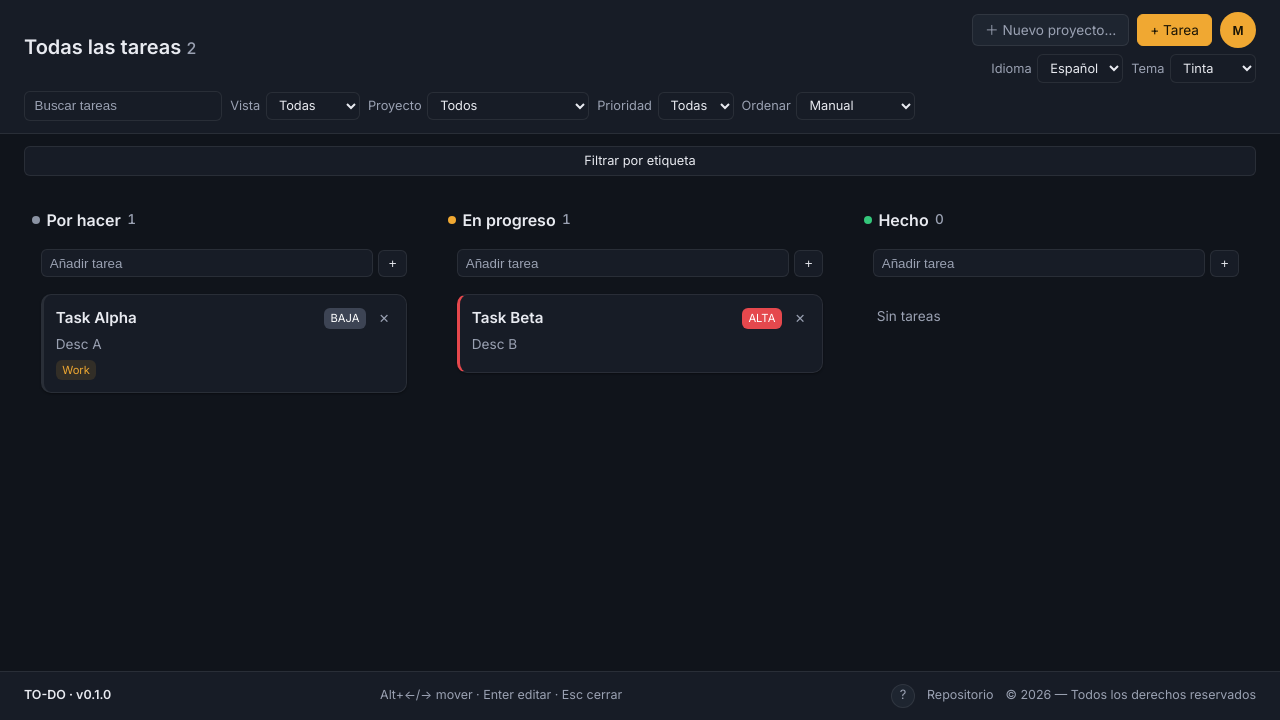
Scenario: TodoListPage Kanban (through the repository seam) › filters visible tasks by tag and clears the filter
This screenshot has width=1280, height=720.
Expected: the text "Task Alpha" is shown, [56,308,137,327]
Expected: the text "Task Beta" is shown, [472,308,543,327]
What coordinates should you click on to do the following:
click the button "Filtrar por etiqueta"
I would click on:
 (640, 161)
Its box is [24,146,1256,176].
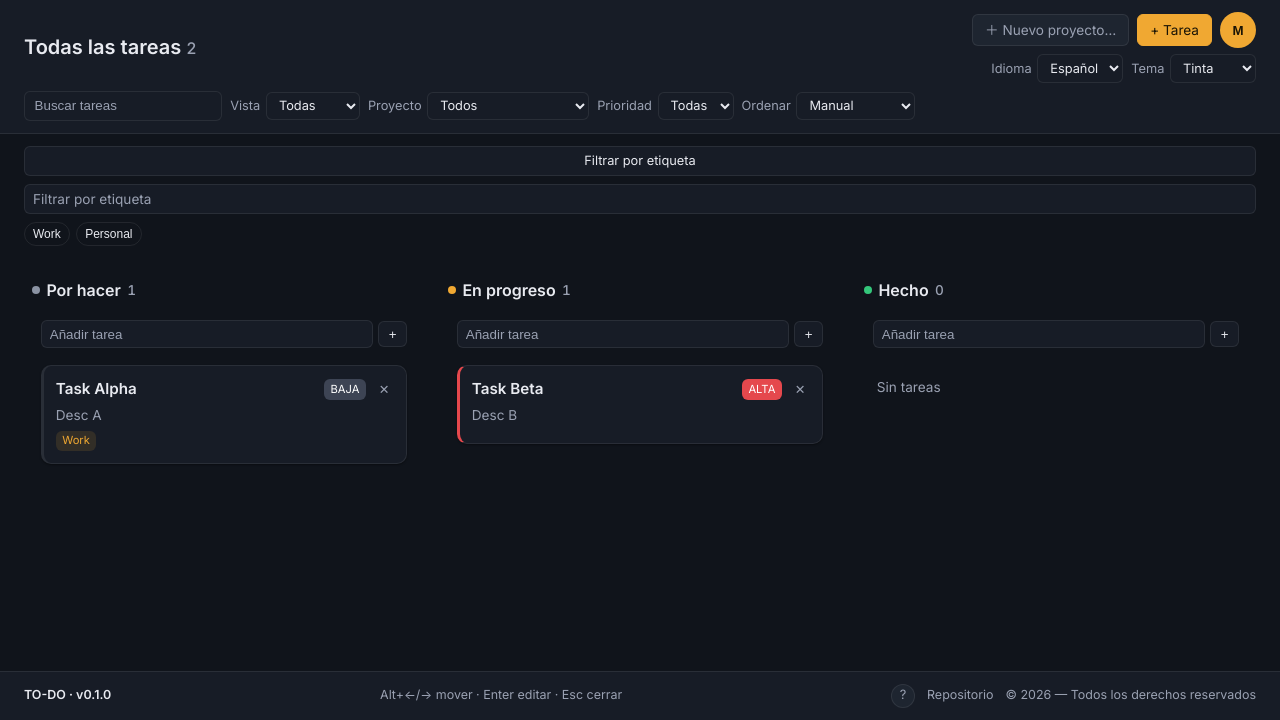
What coordinates should you click on to do the following:
click the option "Work"
I would click on:
 (47, 234)
Its box is [24,222,70,246].
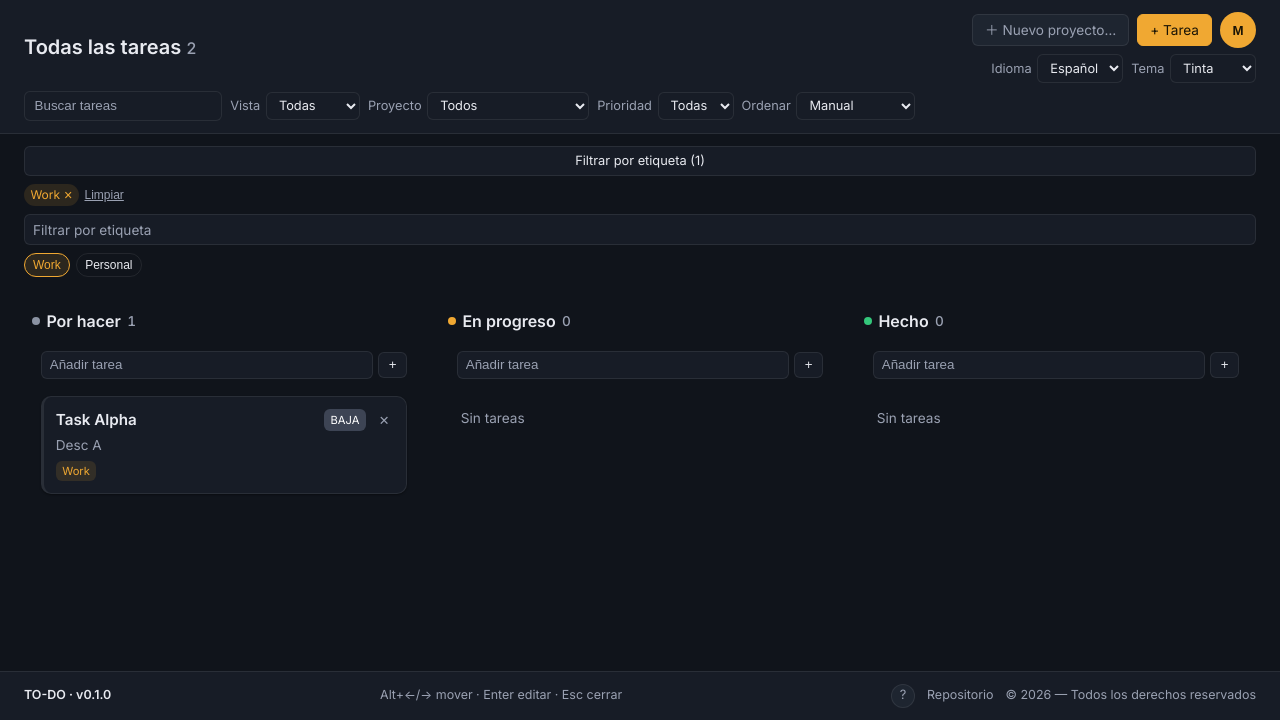
Expected: the text "Task Alpha" is shown, [56,410,137,429]
Expected: the button "Task Beta" is gone
What coordinates should you click on to do the following:
click the button "Limpiar"
I would click on:
 (104, 195)
Its box is [84,188,124,202].
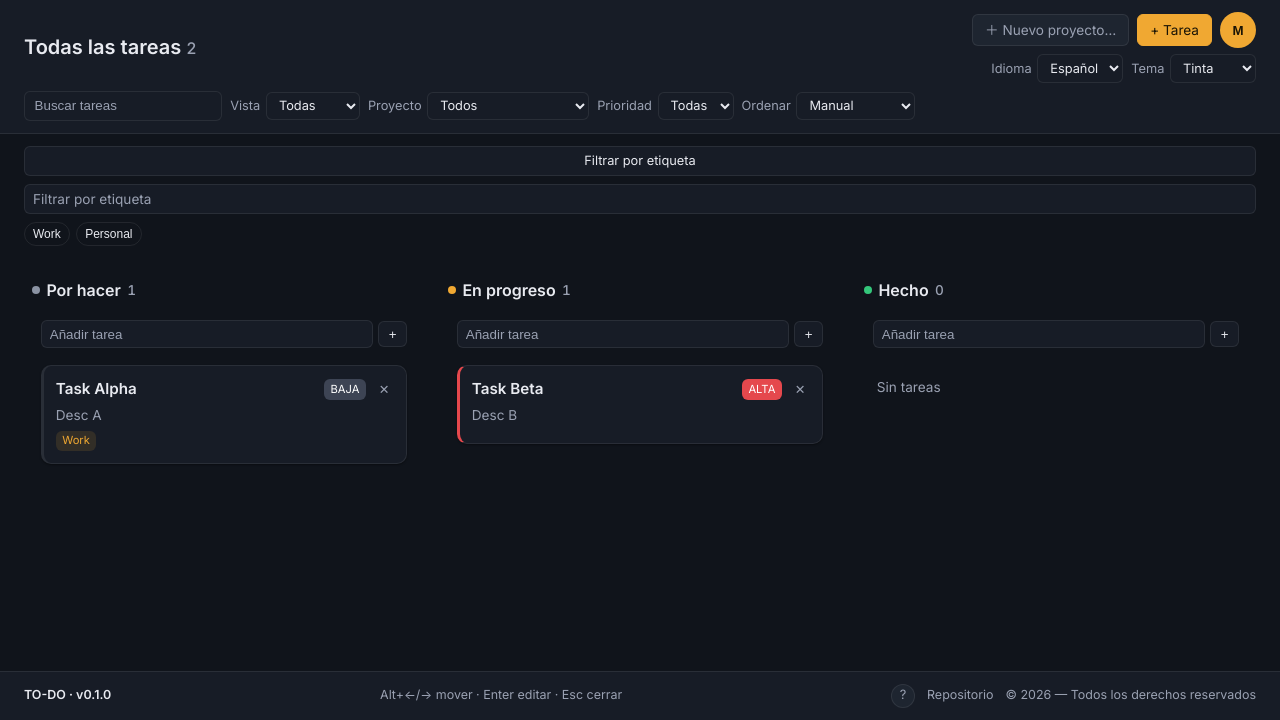
Expected: the text "Task Beta" is shown, [472,379,543,398]
